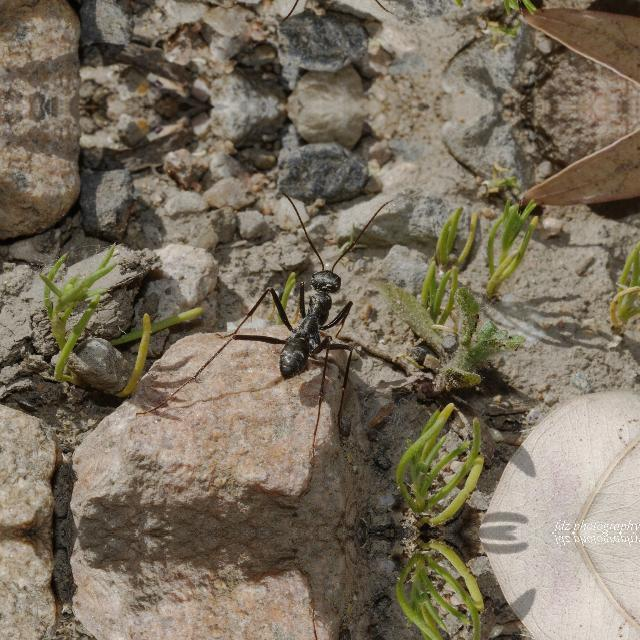Cataglyphis: (234, 246, 376, 394)
